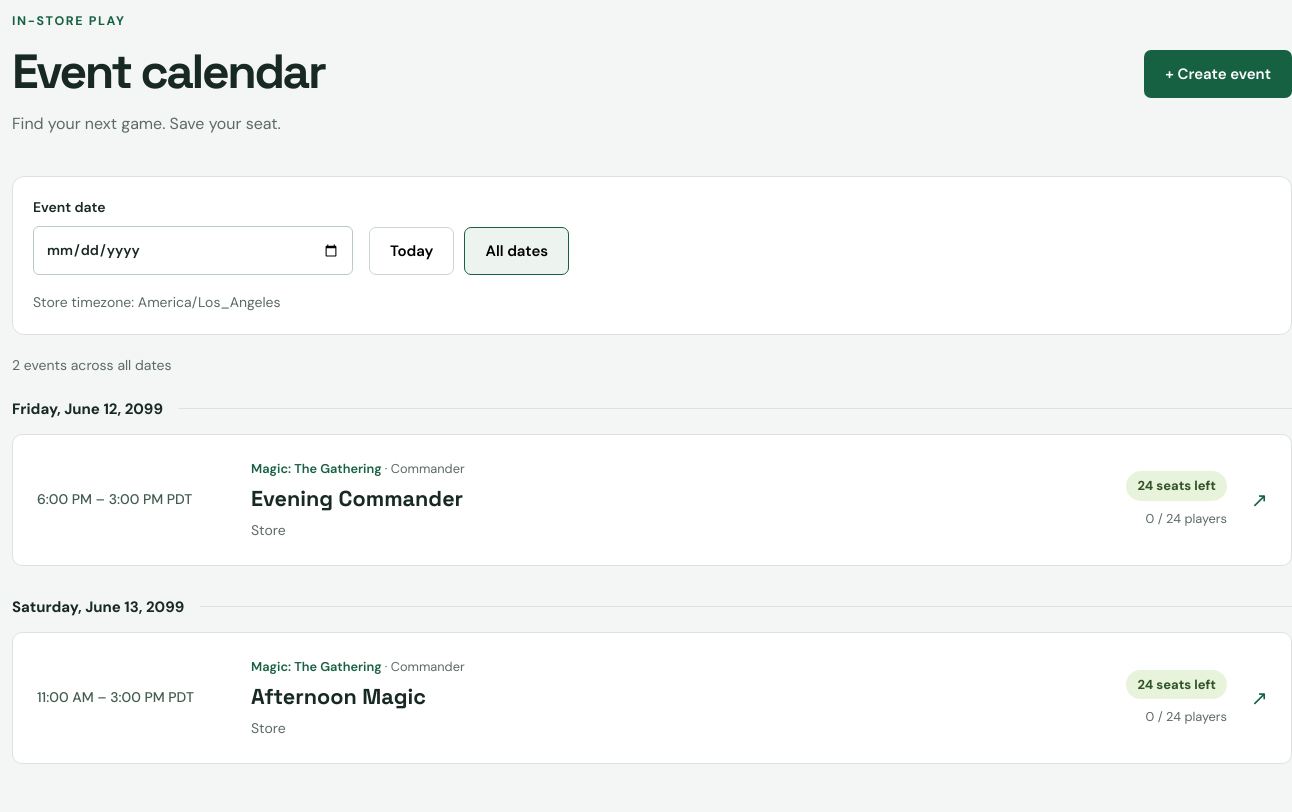
Test: Today selects the store date even when UTC is already the next day
This screenshot has width=1292, height=812.
Check: the heading "Evening Commander" is shown, box [251,485,463,512]
Click the button "Today". click: x=412, y=251
box: [369,227,454,275]
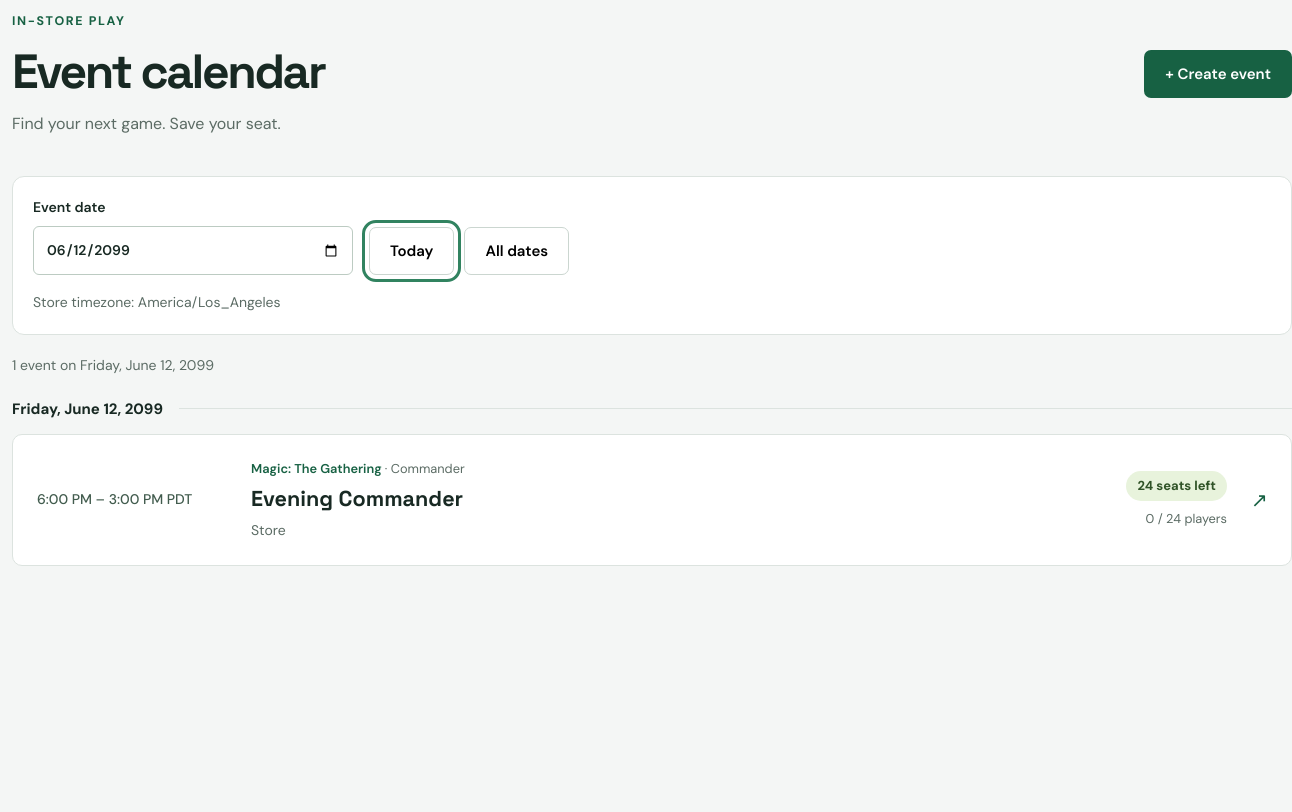
Check: the heading "Evening Commander" is shown, box [251,485,463,512]
Check: the date field labelled "Event date" holds "2099-06-12", box [33,226,353,275]
Check: the link "Afternoon Magic" is gone
